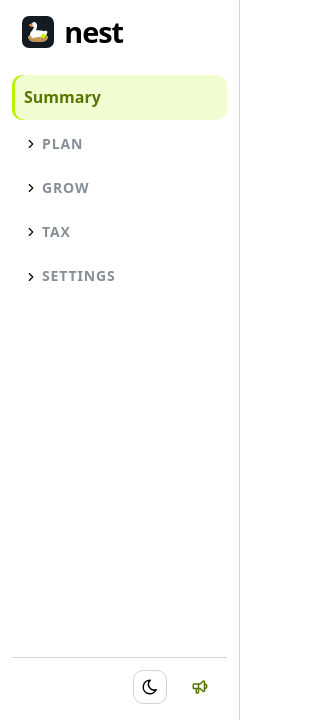
Test case: TabBar › expands and collapses a group from its header
Click the button "Tax". click: (120, 232)
box: [12,212,227,252]
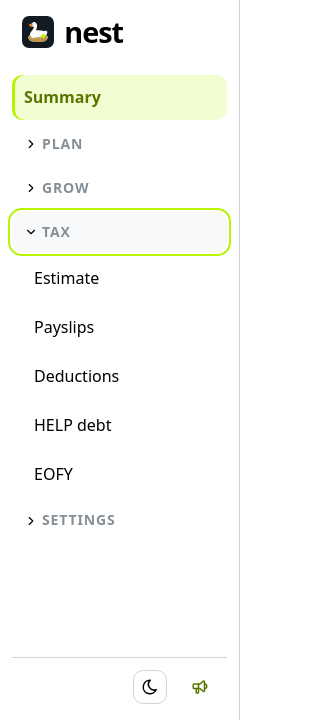
Now the button "Tax" is expanded
Now the link "Deductions" is shown, box [34,365,119,387]
Click the button "Tax". click: (120, 232)
box: [12,212,227,252]
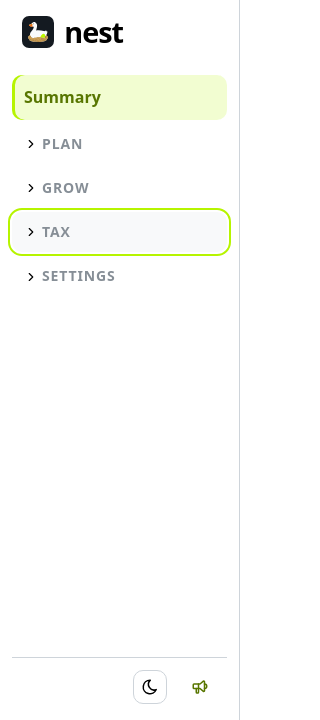
Now the button "Tax" is collapsed, box [12,212,227,252]
Now the link "Deductions" is gone
